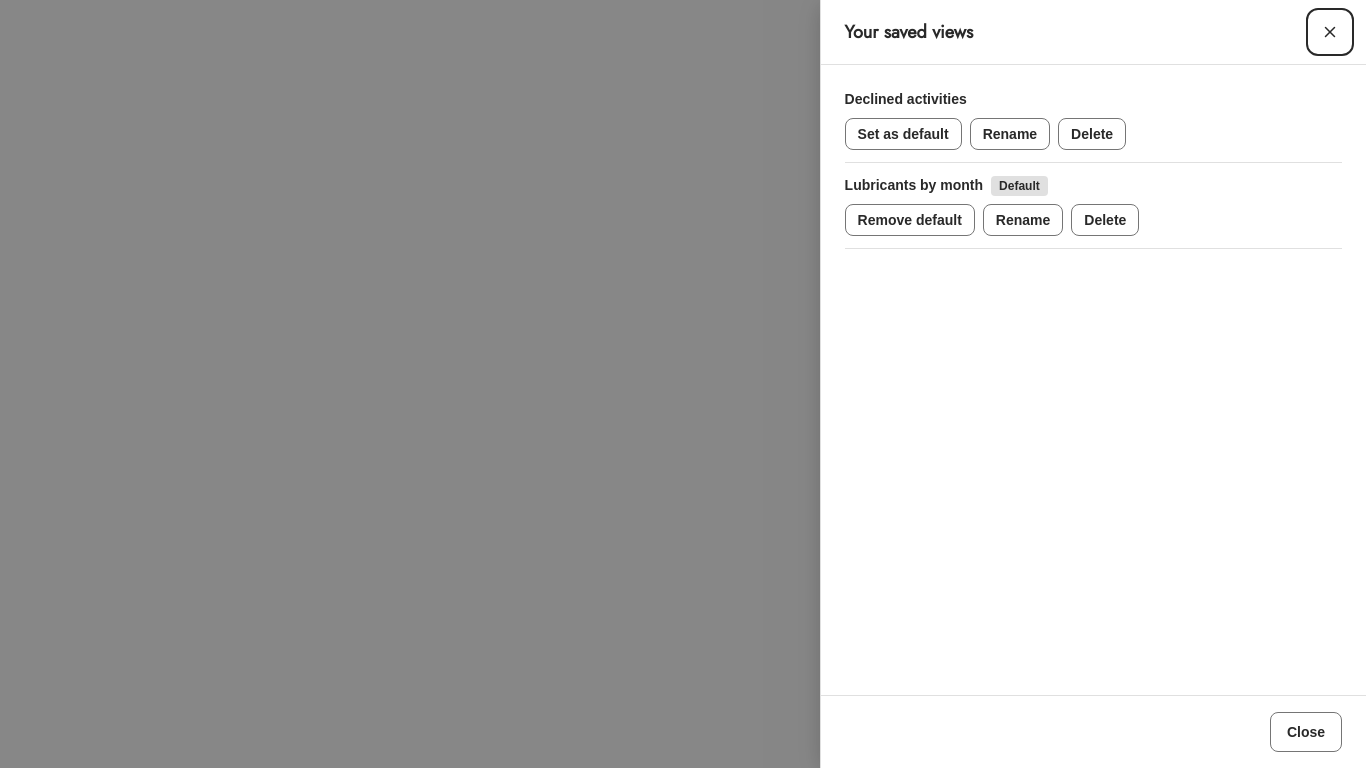
ManageViewsPanel (US6, FR-031) › sets and removes the default view (FR-031)
What coordinates should you click on to do the following:
click the button named "Set as default Declined activities"
I would click on:
 (903, 134)
Its box is [845,118,962,150].
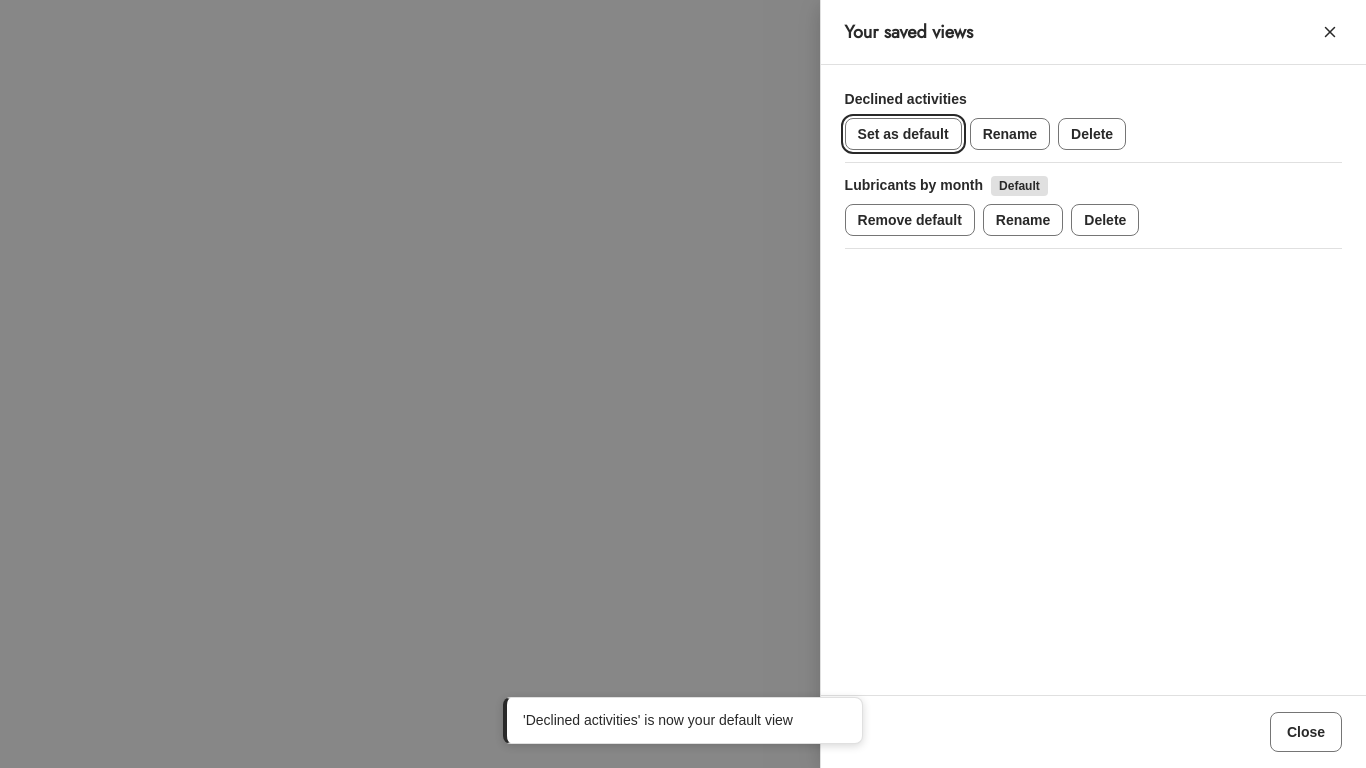
expect the text "'Declined activities' is now your default view" is shown: met, box [523,712,793,728]
What coordinates should you click on to do the following:
click the button named "Remove default Lubricants by month"
I would click on:
 (910, 220)
Its box is [845,204,975,236].
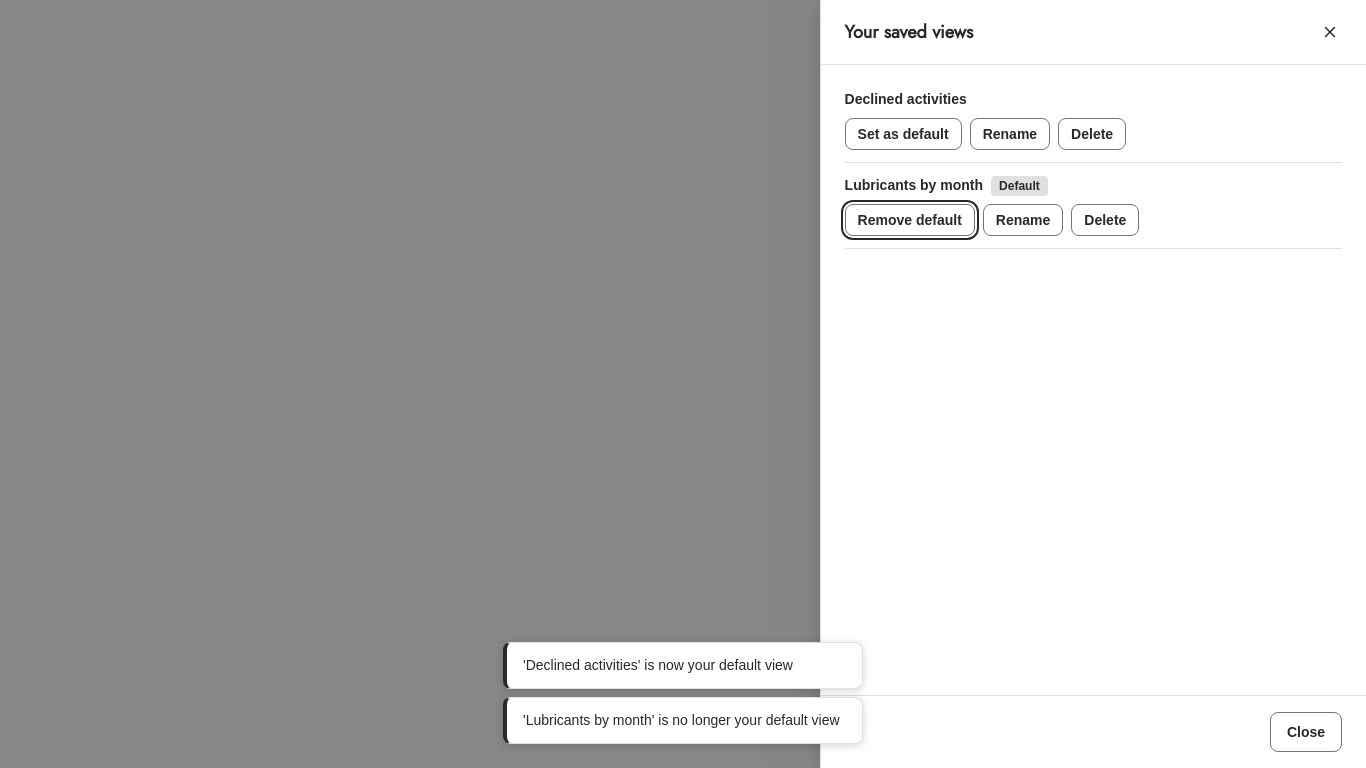
expect the text "'Lubricants by month' is no longer your default view" is shown: met, box [523,710,850,731]
